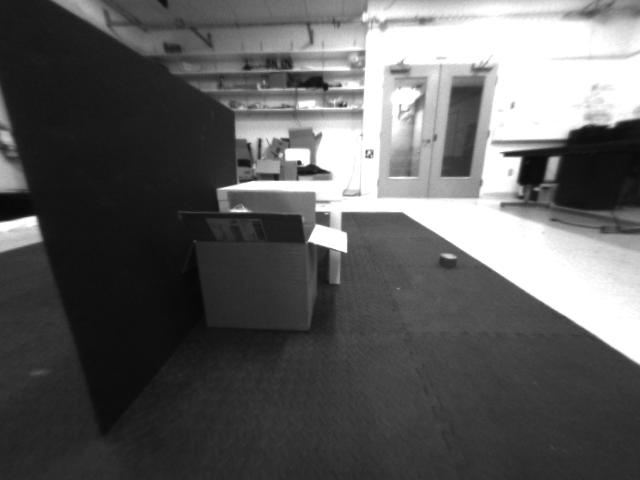dogtoy: (423, 242, 465, 278)
